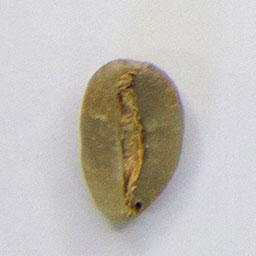longberry: (76, 57, 188, 225)
